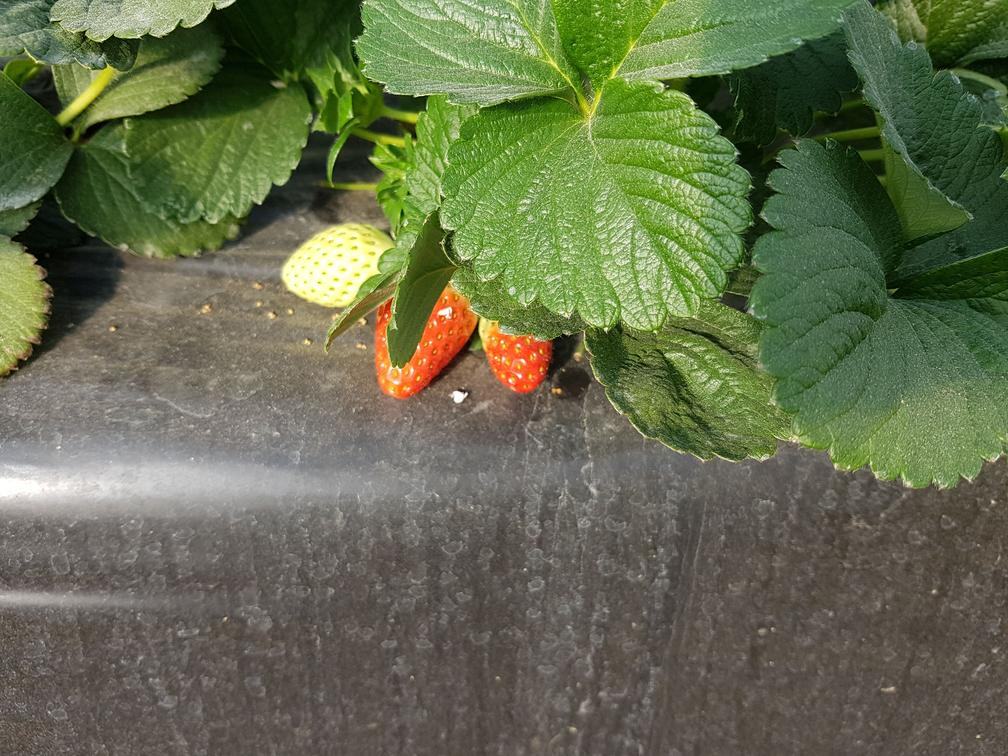Ripe: (378, 290, 482, 407), (480, 316, 561, 402)
Unripe: (279, 217, 401, 311)
